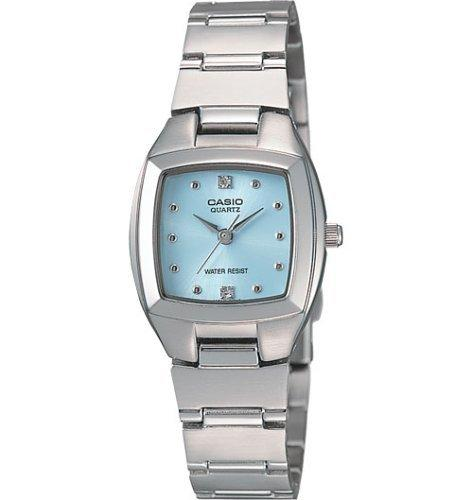watch: (120, 102, 342, 361)
